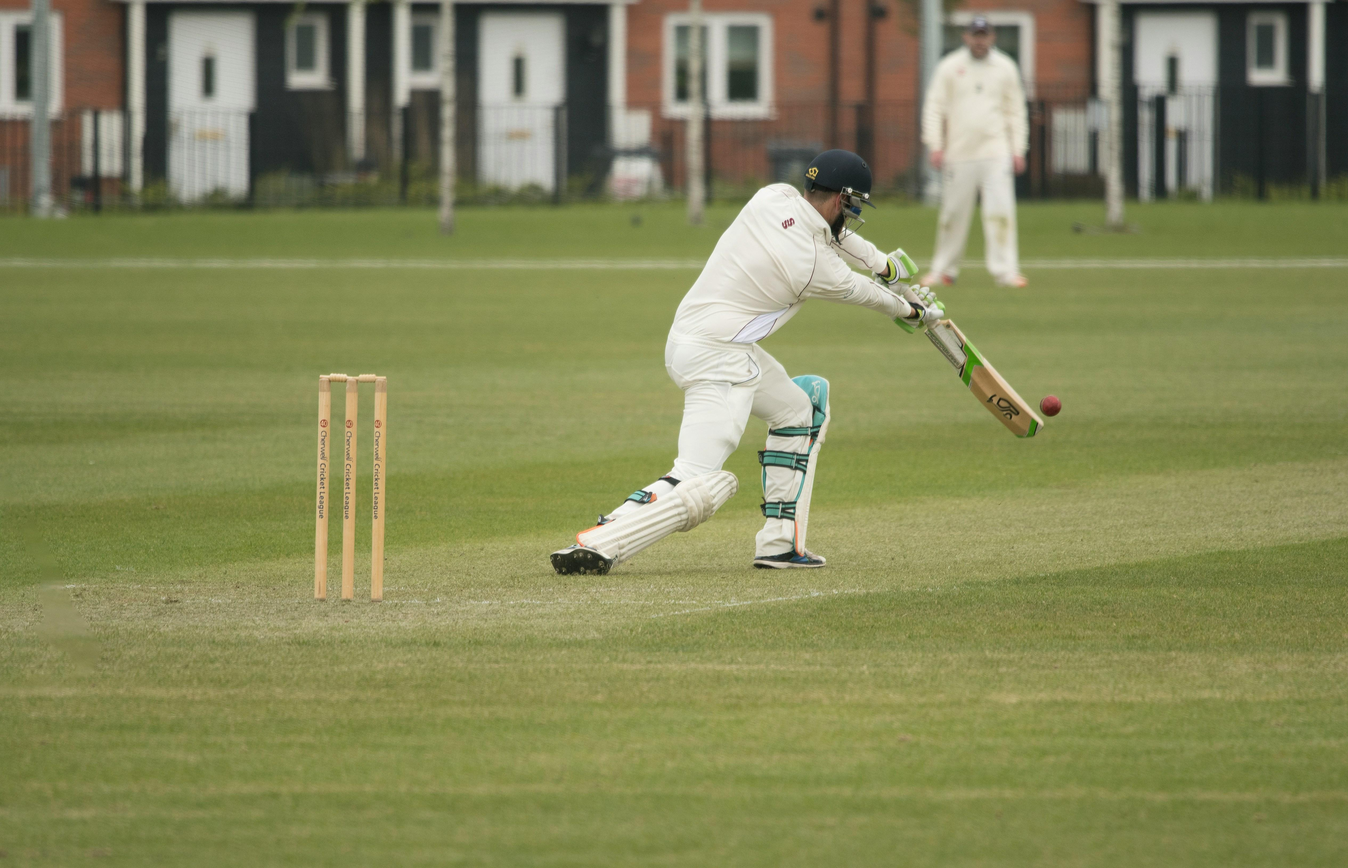batsman: (592, 111, 913, 616)
